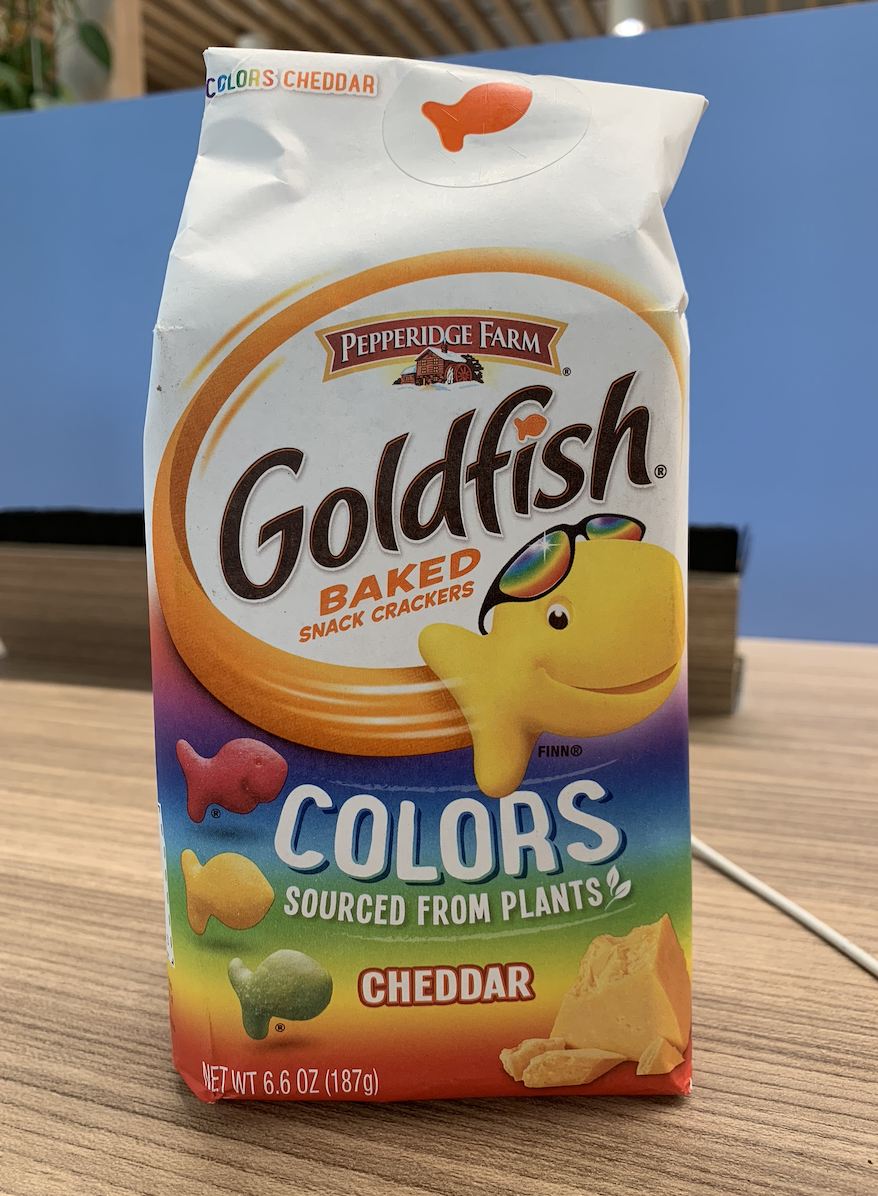crackers_150g: (191, 207, 675, 1104)
